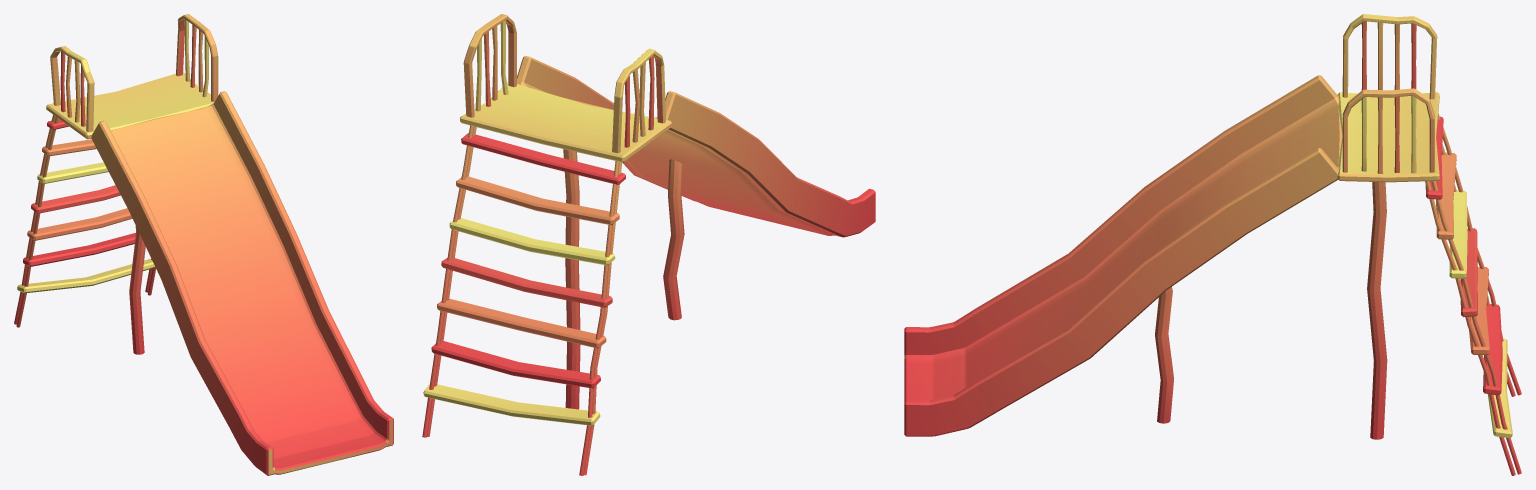
The model's file is DoubleSlide.fbx.
3 renders of one model, left to right at view 1: azimuth 30°, elevation 25°; view 2: azimuth 150°, elevation 25°; view 3: azimuth 270°, elevation 25°, orthographic. The views are drawn at different scales.
Visible parts, largest first — view 1: DoubleSlide; view 2: DoubleSlide; view 3: DoubleSlide.
Boxes of the visible parts, box(x1,y1,x2,y2) form: DoubleSlide: box(14, 14, 393, 475); DoubleSlide: box(422, 14, 875, 475); DoubleSlide: box(904, 14, 1521, 475).
Size of the model in its own units: 64.2 by 135 by 197.
1 material, 1 textured.
